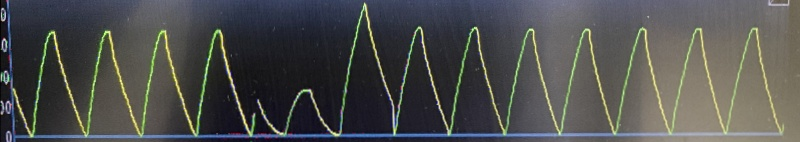normal_volume: (21, 7, 783, 142)
